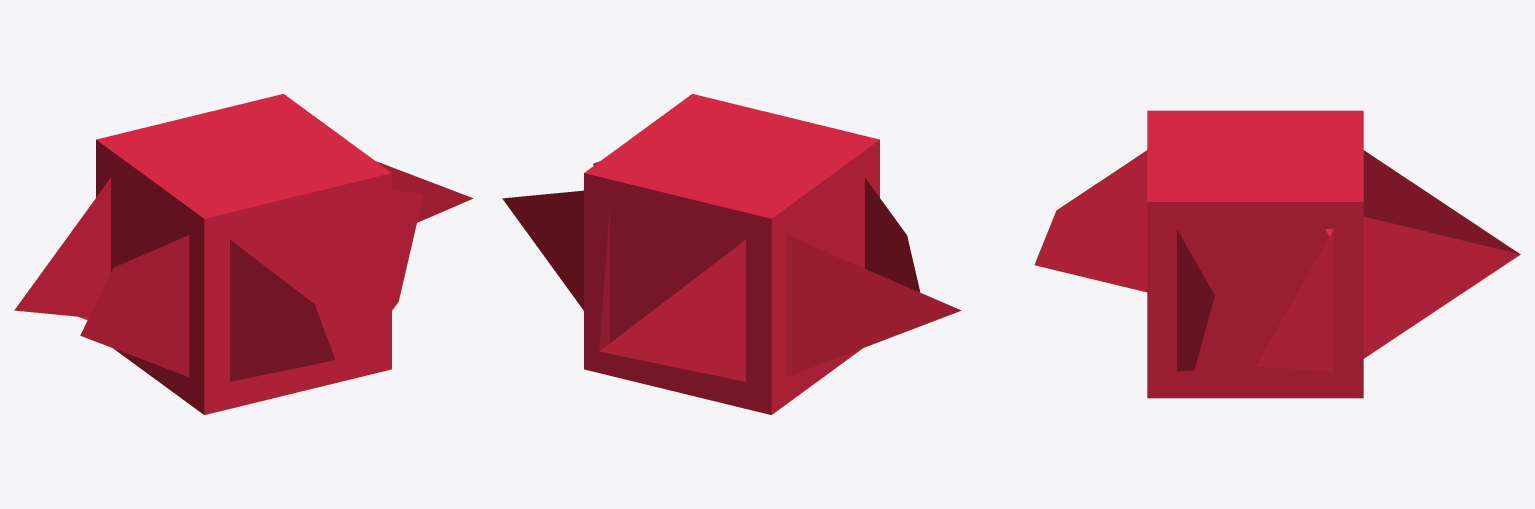
Rendered from obstacle 1.fbx.
3 renders of one model, left to right at view 1: azimuth 30°, elevation 25°; view 2: azimuth 150°, elevation 25°; view 3: azimuth 270°, elevation 25°, orthographic.
Parts seen in each view (by area): view 1: pyramid; view 2: pyramid; view 3: pyramid.
Boxes of the visible parts, x1,y1,x2,y2 form: pyramid: [14, 94, 473, 414]; pyramid: [502, 94, 961, 414]; pyramid: [1034, 110, 1520, 398].
Size of the model in its own units: 122 by 123 by 122.
Materials: 1 (1 with a texture image).
